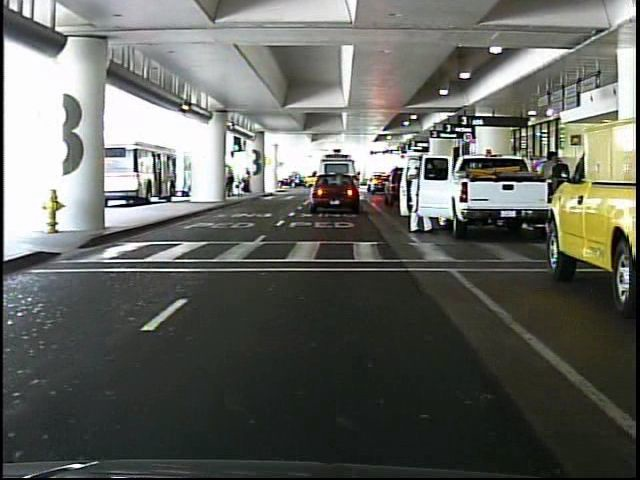person: (532, 143, 567, 221), (407, 148, 438, 236), (242, 165, 256, 195), (226, 163, 236, 198)
